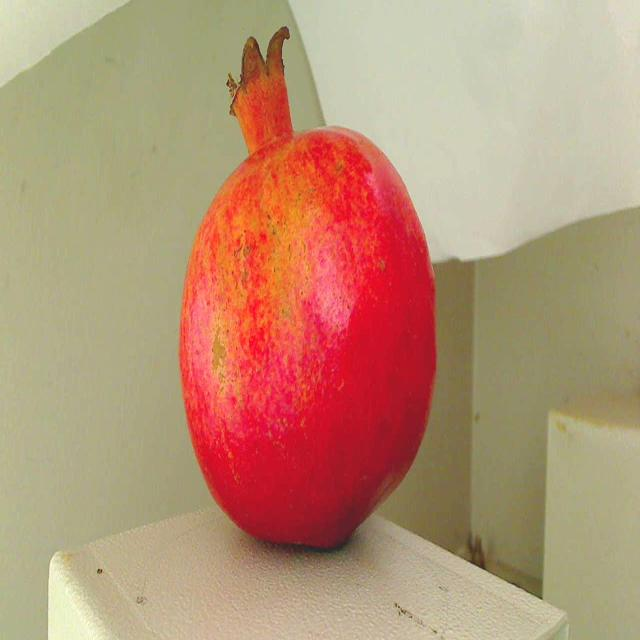pomegranate: (170, 16, 448, 590)
